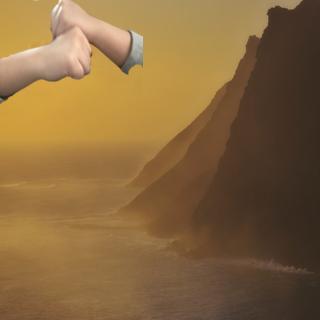CAREFUL: (8, 0, 137, 86)
